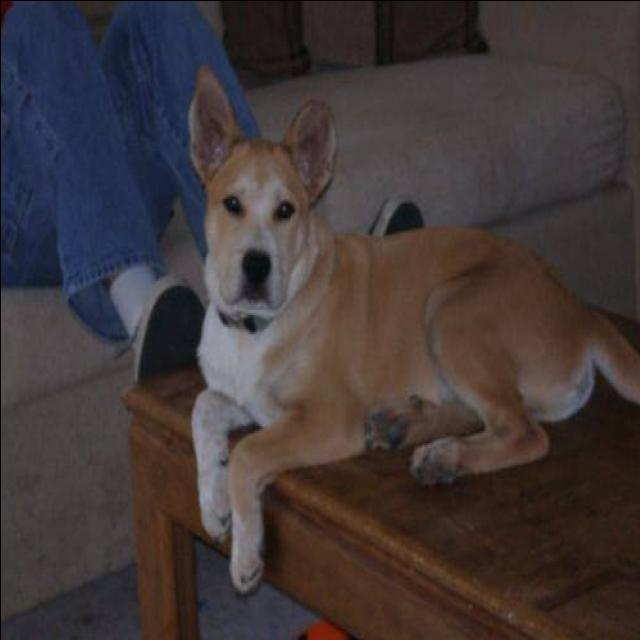dog: (179, 53, 640, 587)
